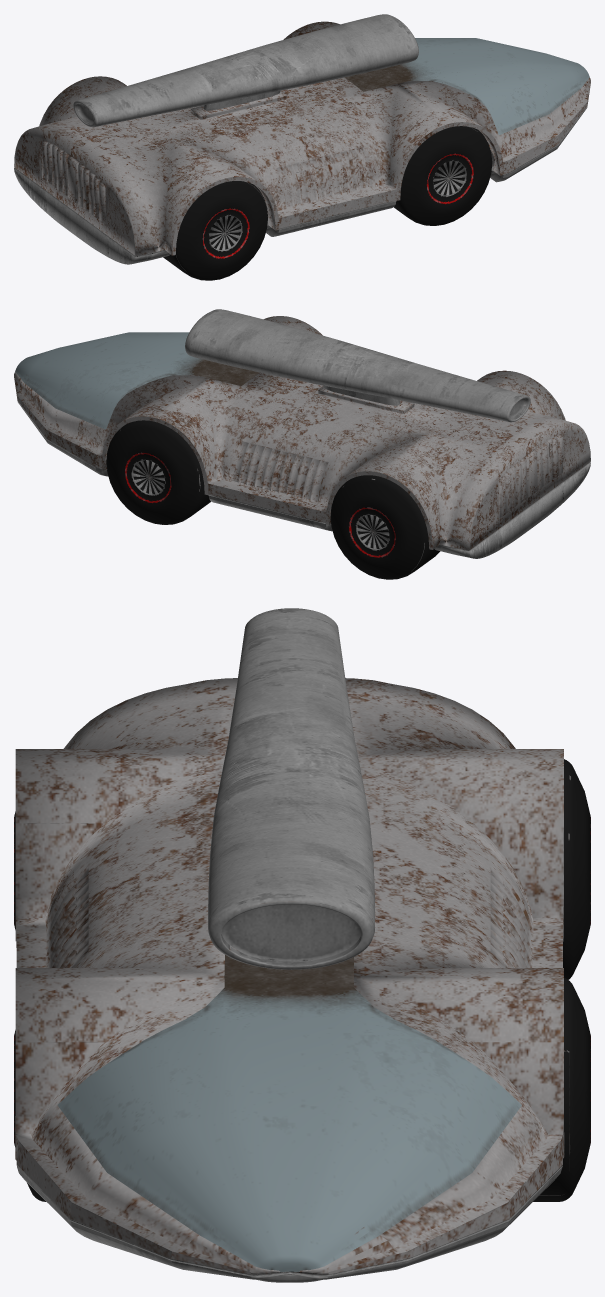
3 views of the same model, one above another, from view 1: azimuth 30°, elevation 25°; view 2: azimuth 150°, elevation 25°; view 3: azimuth 270°, elevation 25° (orthographic). The views are drawn at different scales.
Visible parts, largest first — view 1: glass.001, glass.000; view 2: glass.001, glass.000; view 3: glass.001, glass.000.
Boxes of the visible parts, x1=… form: glass.001: x1=14, y1=14, x2=590, y2=280; glass.000: x1=345, y1=38, x2=589, y2=135; glass.001: x1=14, y1=309, x2=590, y2=579; glass.000: x1=15, y1=332, x2=259, y2=429; glass.001: x1=14, y1=608, x2=590, y2=1282; glass.000: x1=57, y1=955, x2=521, y2=1271.
Bounding box in the file's own units: 451 × 131 × 221.
2 materials, 2 textured.
